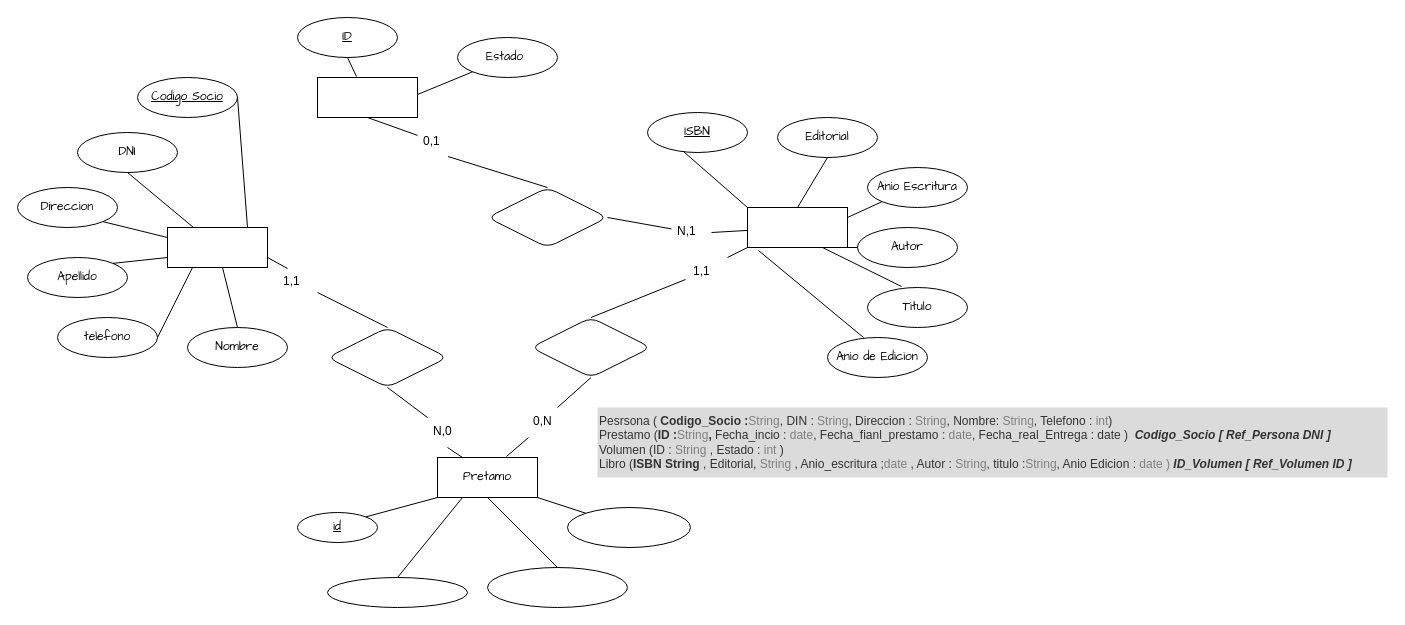
Image size: 1405x625. Some labels were removed from this diagram. Each missing label, with the centre of its shape:
"Compuesto" goes at point (547, 217).
"Fecha Final Prestamo" goes at point (557, 587).
"Fecha Inicio Prestamo" goes at point (397, 592).
"Fecha real Entrega" goes at point (628, 527).
"Libro" goes at point (797, 227).
"Persona" goes at point (217, 247).
"Prestar" goes at point (590, 347).
"Solicita" goes at point (387, 357).
"Volumenes" goes at point (367, 97).
